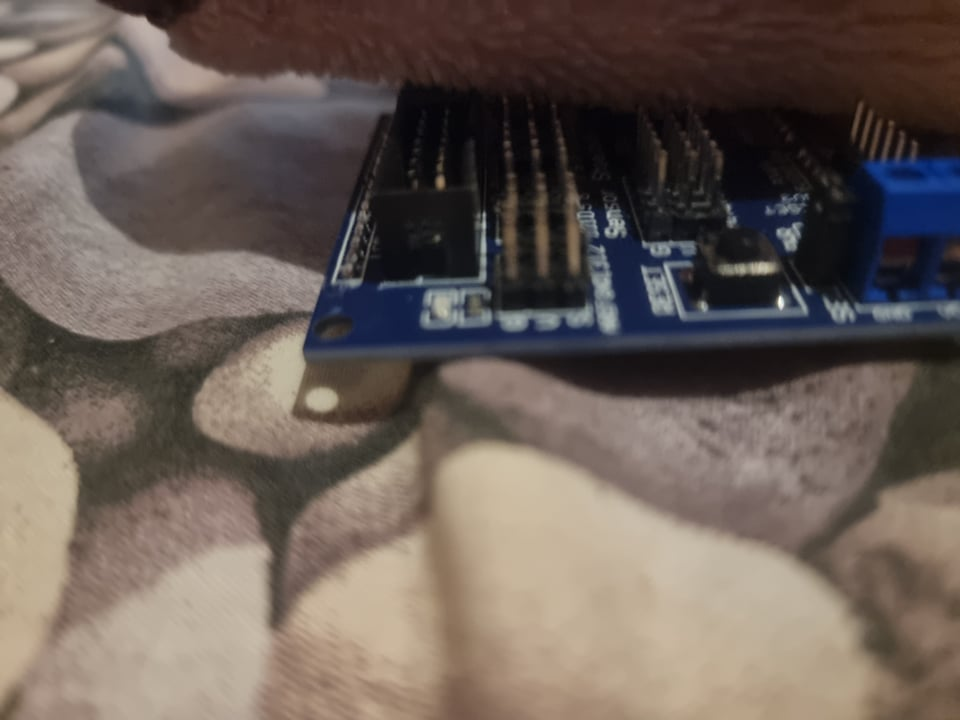5V EXPANSION: (303, 72, 957, 362)
